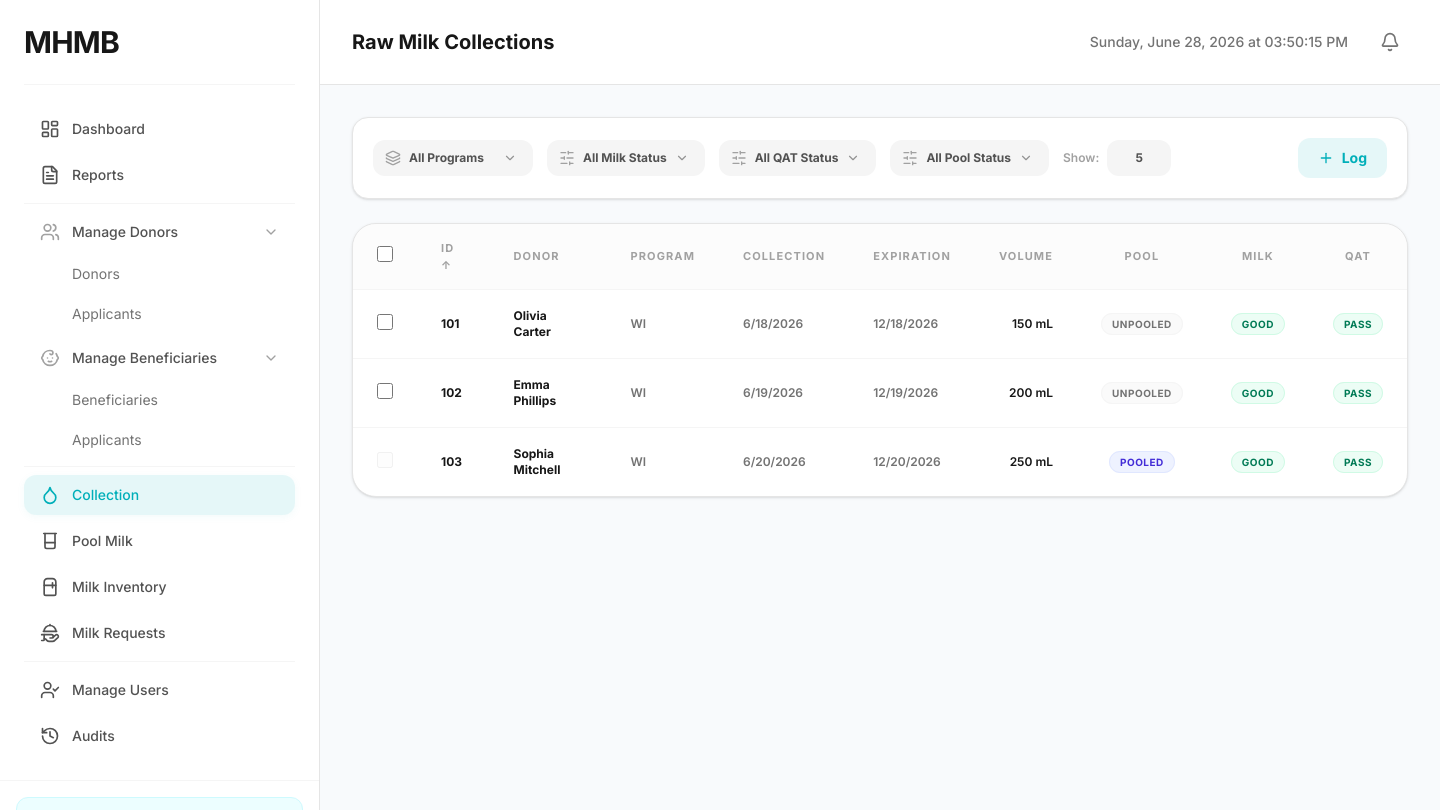
it: StaffCollectionManagement Component › opens detailed collection profile modal on row click
The image size is (1440, 810).
Note: Click row with CTN 101 (represented as text)
Click the text "101" at (453, 324), box [417,290,490,358]
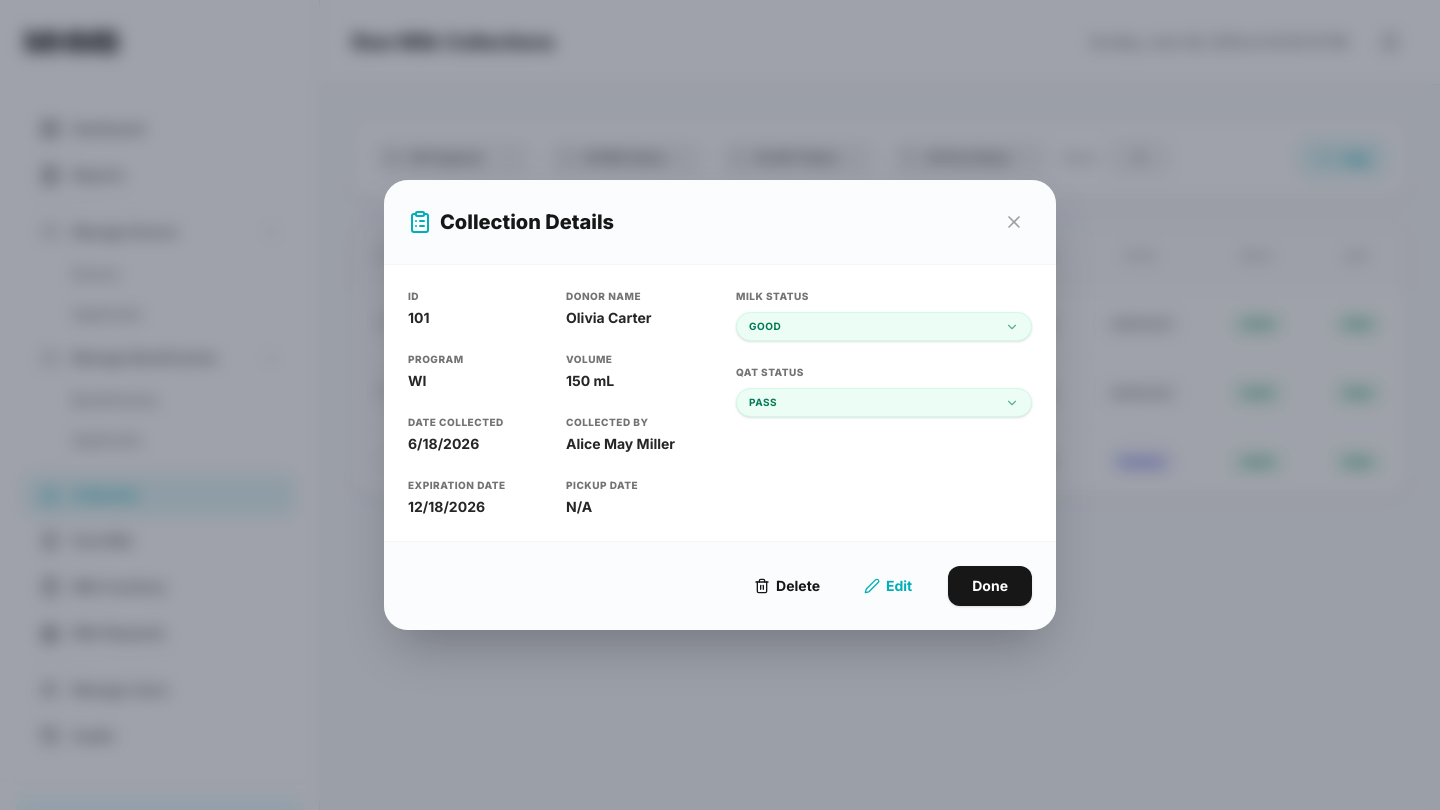
Expected: the element with test id "detail-modal" is shown
Expected: the text with test id "modal-donor-name" reads "Olivia Carter", [566,309,652,326]
Expected: the text with test id "modal-collection-id" reads "101", [408,309,430,326]
Note: Close modal
Click the button with test id "close-detail-modal-btn" at (1014, 222), box [996,204,1032,240]
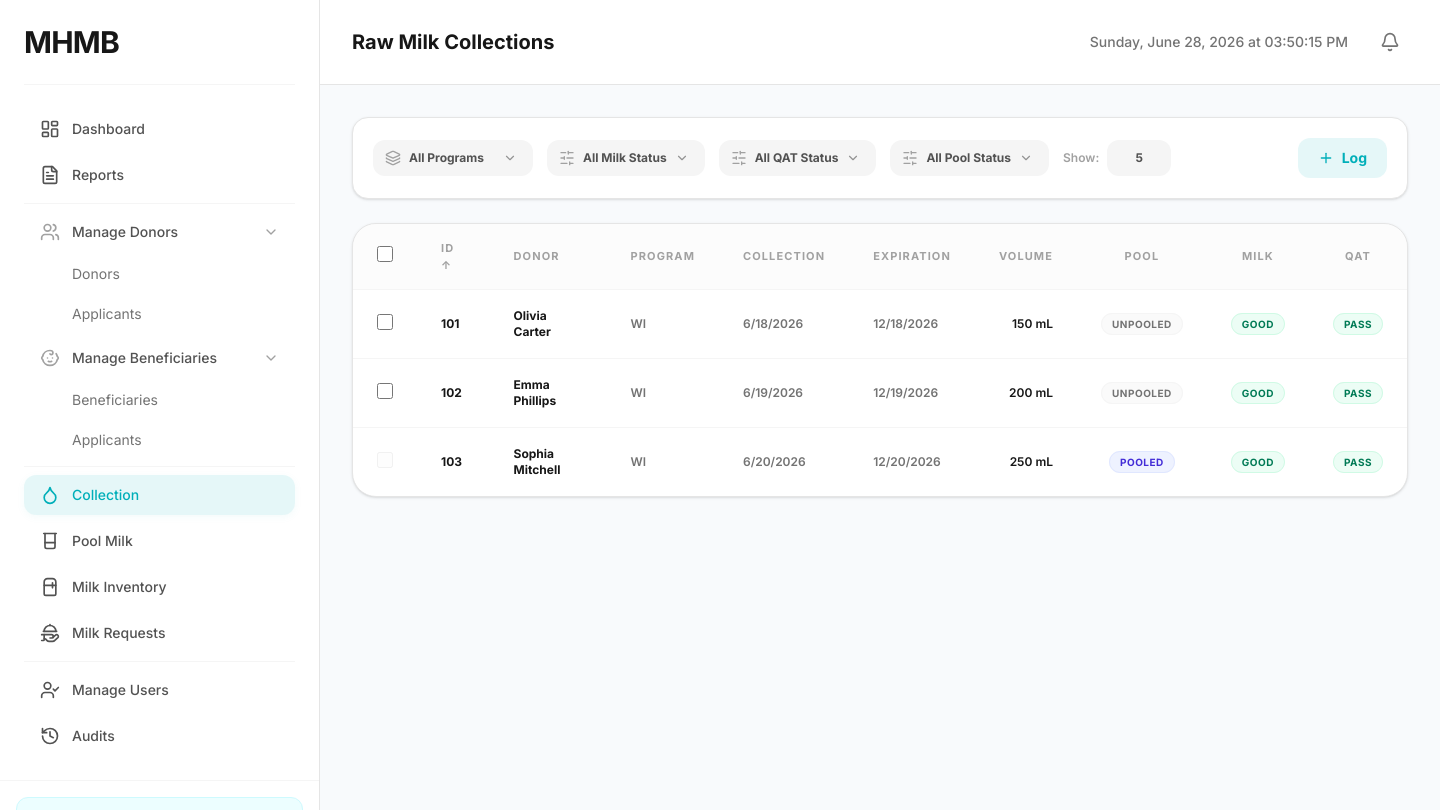
Expected: the element with test id "detail-modal" is gone
